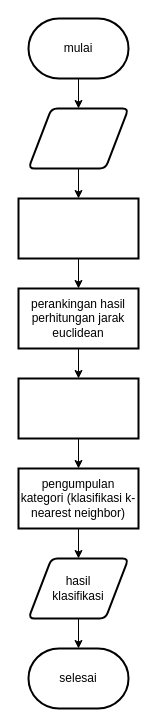
This 156x726 diagram has some shape labels left out. The box of each missing label's shape, as (x1, y1, x2, y2) in pixels:
ambil data sebanyak k: (17, 377, 139, 439)
input data testing, k: (27, 107, 129, 169)
menghitung jarak euclidean: (17, 197, 139, 259)
